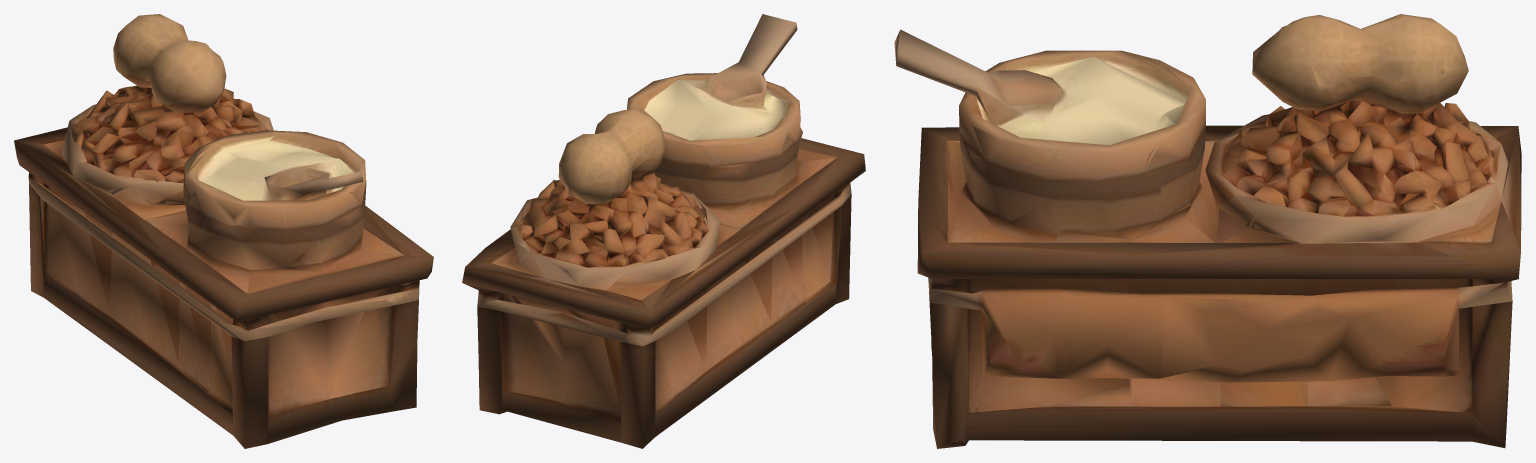
Rendered from TW_사물_s3_topping_peanut.glb.
3 renders of one model, left to right at view 1: azimuth 30°, elevation 25°; view 2: azimuth 150°, elevation 25°; view 3: azimuth 270°, elevation 25°, orthographic. The views are drawn at different scales.
Parts seen in each view (by area): view 1: tripo_node_95008c02-f496-4fbc-a2e7-3911d2c494d9; view 2: tripo_node_95008c02-f496-4fbc-a2e7-3911d2c494d9; view 3: tripo_node_95008c02-f496-4fbc-a2e7-3911d2c494d9.
Boxes of the visible parts, x1,y1,x2,y2 form: tripo_node_95008c02-f496-4fbc-a2e7-3911d2c494d9: (14,14,433,448); tripo_node_95008c02-f496-4fbc-a2e7-3911d2c494d9: (462,14,865,448); tripo_node_95008c02-f496-4fbc-a2e7-3911d2c494d9: (894,14,1521,448).
Size of the model in its own units: 0.4938 by 0.6556 by 0.9868.
Materials: 1 (1 with a texture image).
